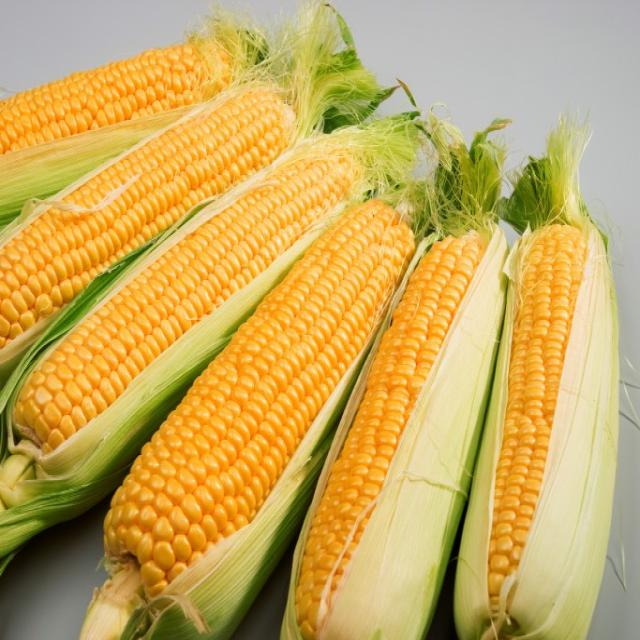corn: (0, 111, 388, 488), (111, 190, 434, 616), (286, 206, 512, 640), (0, 82, 316, 356), (475, 198, 628, 631), (0, 28, 258, 176)
